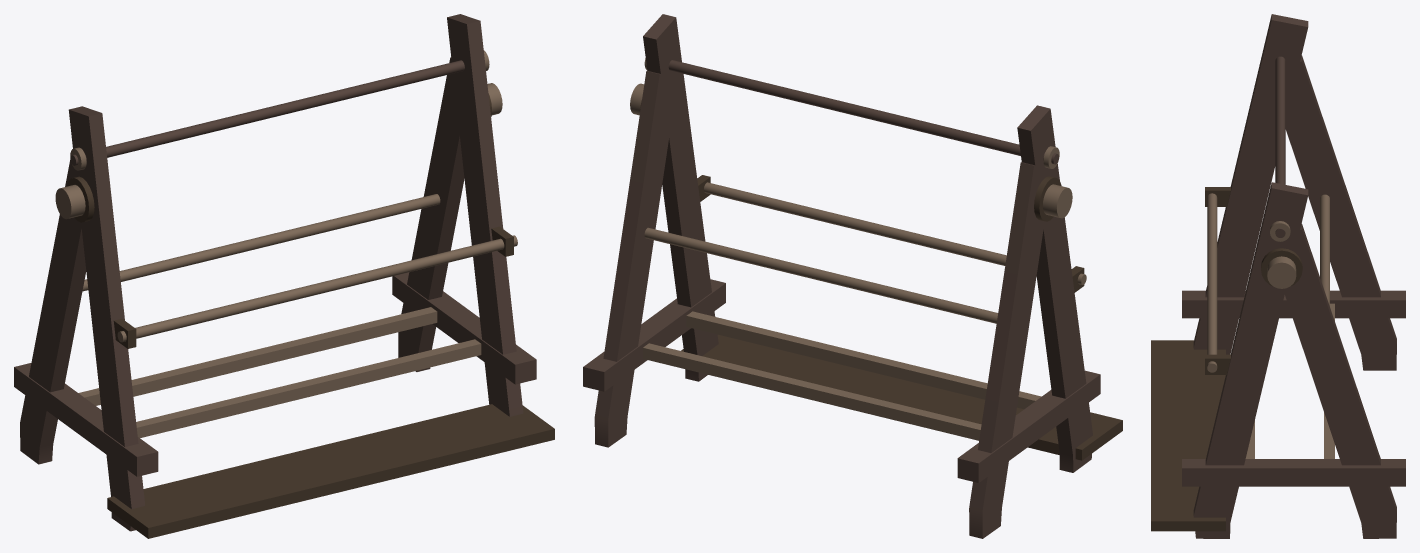
The model's file is weapon_rack_mesh.fbx.
The picture shows the model from 3 angles, left to right: view 1: azimuth 30°, elevation 25°; view 2: azimuth 150°, elevation 25°; view 3: azimuth 270°, elevation 25°; orthographic projection. The views are drawn at different scales.
Visible parts, largest first — view 1: polySurface23; view 2: polySurface23; view 3: polySurface23.
Boxes of the visible parts, box(x1,y1,x2,y2) form: polySurface23: box(14, 14, 554, 538); polySurface23: box(583, 14, 1122, 538); polySurface23: box(1151, 14, 1405, 538).
Size of the model in its own units: 8.34 by 7.11 by 4.68.
